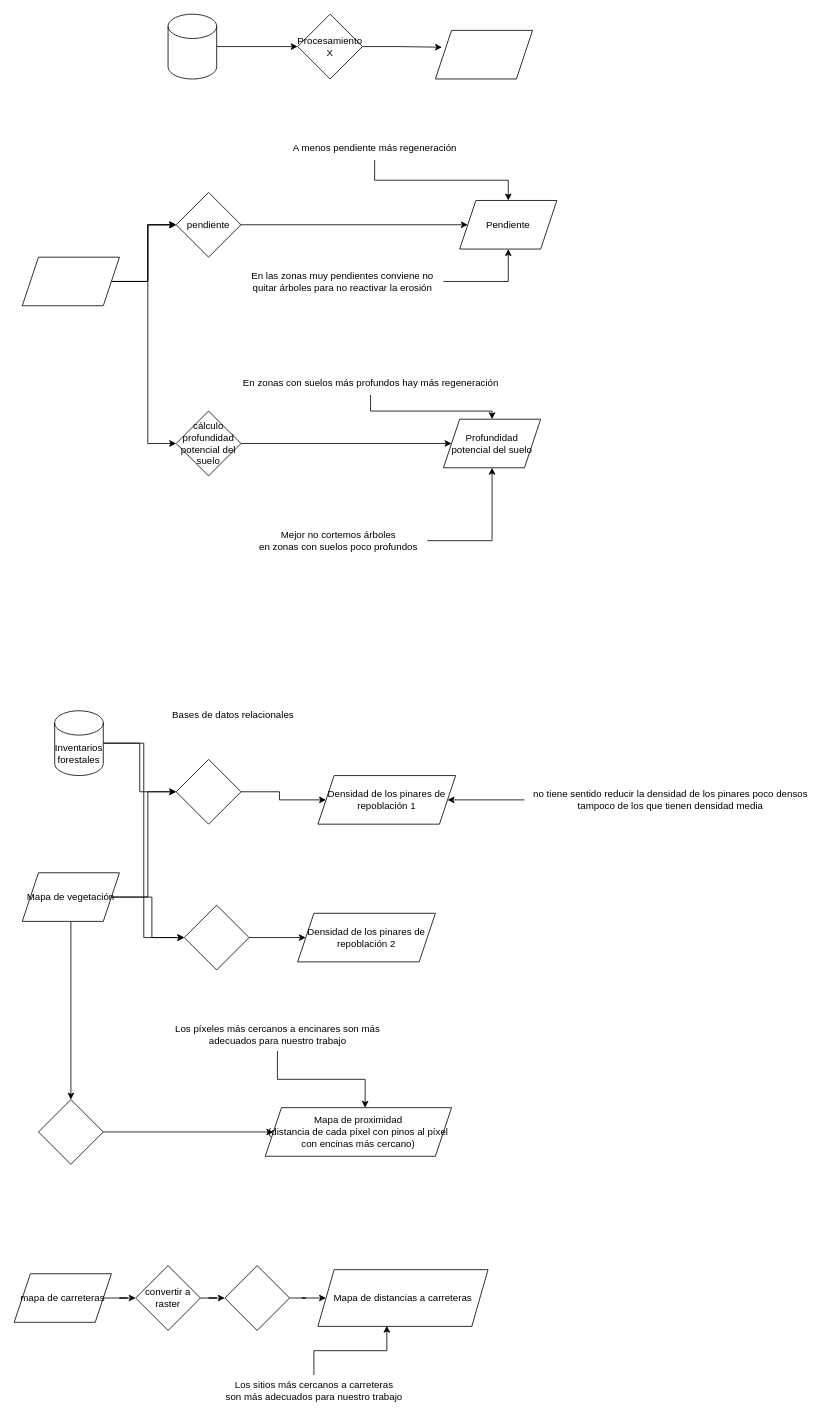
Some shapes in this 830 by 1422 pixel diagram are drawn without their labels. Each missing label, with the box of its shape:
análisis de proximidad: (38, 1099, 103, 1164)
calcular distancias: (224, 1265, 290, 1330)
Distribución de variable A: (435, 30, 533, 79)
Fuente de datos: (167, 13, 217, 79)
Modelo digital de elevaciones: (21, 256, 119, 306)
Vía 1: (175, 759, 241, 824)
Vía 2: (183, 904, 249, 970)
